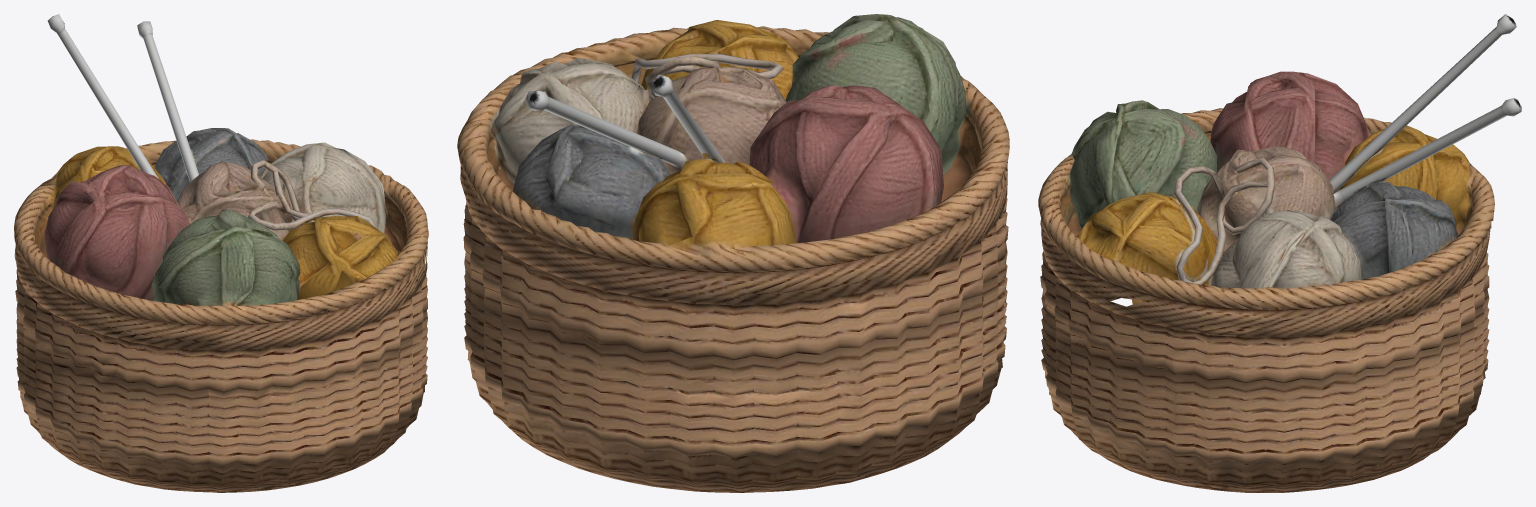
Rendered from basket.glb.
3 views of the same model, side by side, from view 1: azimuth 30°, elevation 25°; view 2: azimuth 150°, elevation 25°; view 3: azimuth 270°, elevation 25° (orthographic). The views are drawn at different scales.
Visible parts, largest first — view 1: tripo_node_79536fd0-8a8a-48bf-95ab-e6330; view 2: tripo_node_79536fd0-8a8a-48bf-95ab-e6330; view 3: tripo_node_79536fd0-8a8a-48bf-95ab-e6330.
Part boxes in pixels (x1,y1,x2,y2): tripo_node_79536fd0-8a8a-48bf-95ab-e6330: (14,14,428,492); tripo_node_79536fd0-8a8a-48bf-95ab-e6330: (457,14,1009,492); tripo_node_79536fd0-8a8a-48bf-95ab-e6330: (1038,14,1521,492).
Bounding box in the file's own units: 0.9395 × 0.834 × 0.998.
1 material, 1 textured.
